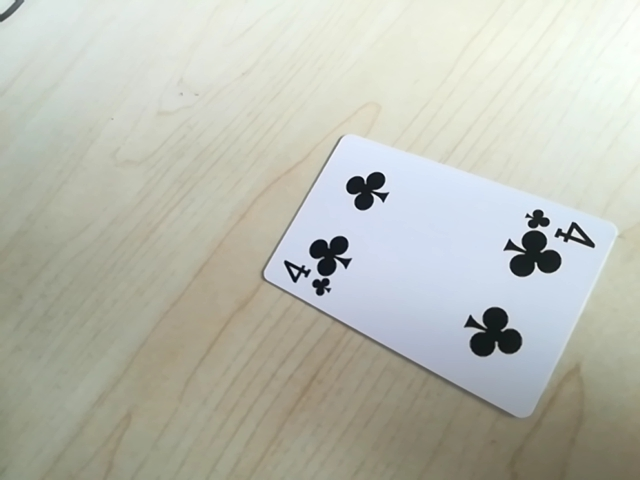mh 4: (521, 209, 596, 248), (276, 256, 338, 300)
